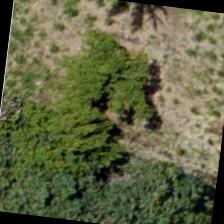Kelapa_Sawit: (172, 73, 223, 169)
